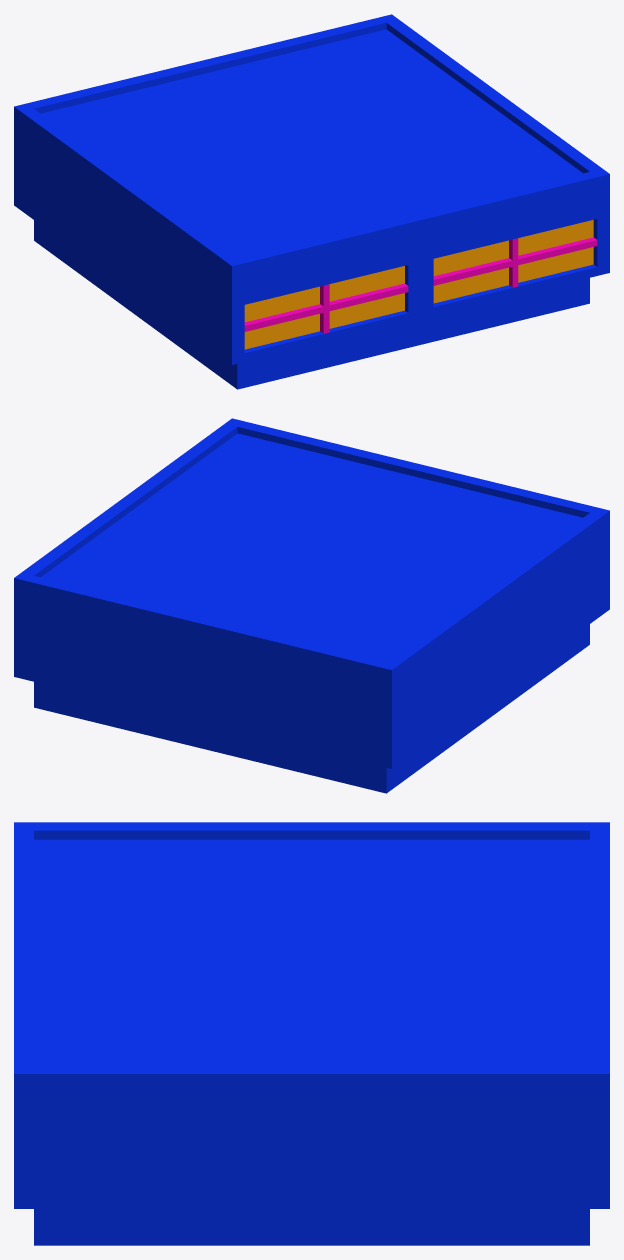
The model's file is parte02.FBX.
3 views of the same model, one above another, from view 1: azimuth 30°, elevation 25°; view 2: azimuth 150°, elevation 25°; view 3: azimuth 270°, elevation 25° (orthographic). The views are drawn at different scales.
Visible parts, largest first — view 1: Box006; view 2: Box006; view 3: Box006.
Part boxes in pixels (x1,y1,x2,y2): Box006: [14, 14, 609, 389]; Box006: [14, 418, 609, 793]; Box006: [14, 822, 609, 1245].
Size of the model in its own units: 600 by 200 by 600.
